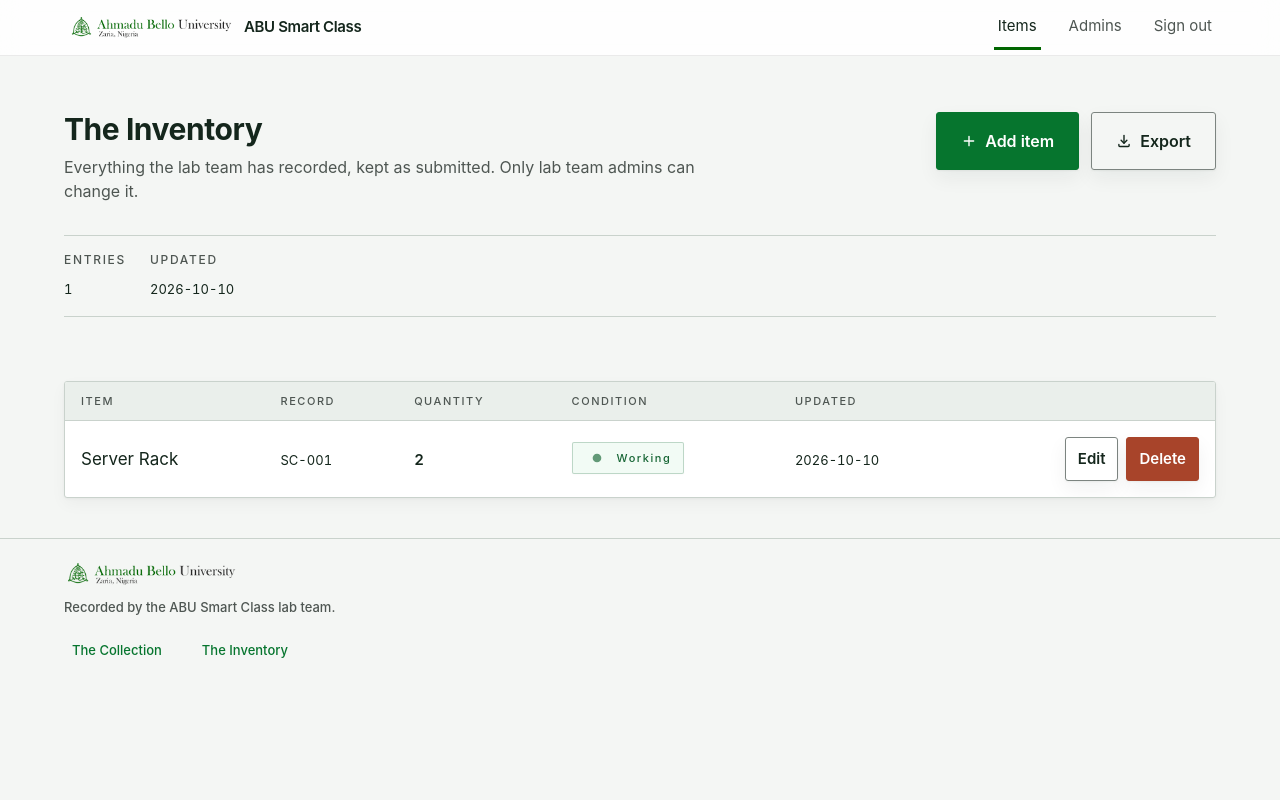
Test case: app/admin/_components/export-dialog (S-010) › wires into /admin page and opens on Export button click
This screenshot has width=1280, height=800.
Expected: the column heading "Server Rack" is shown, [65,421,264,497]
Click the button "Export".
click(1154, 141)  # box [1091,112,1216,170]
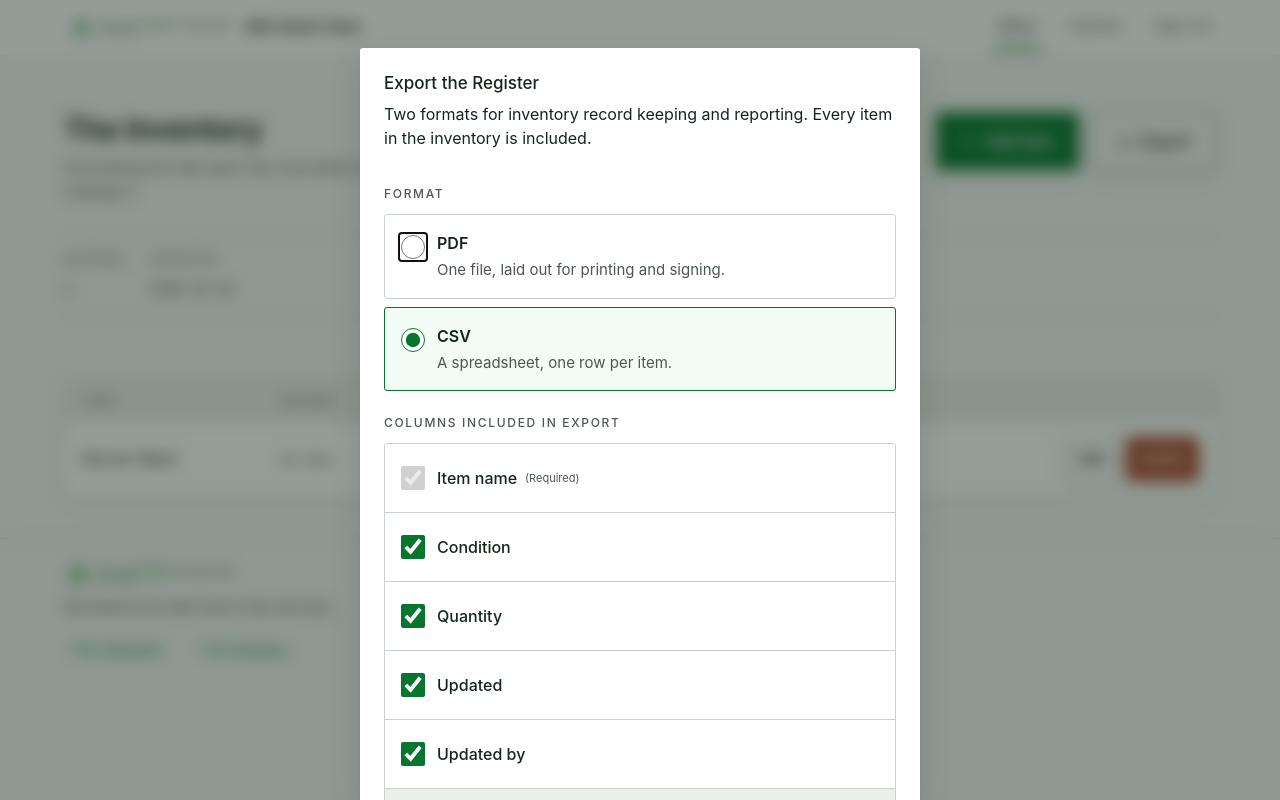
Expected: the heading "Export the Register" is shown, [384,73,539,93]
